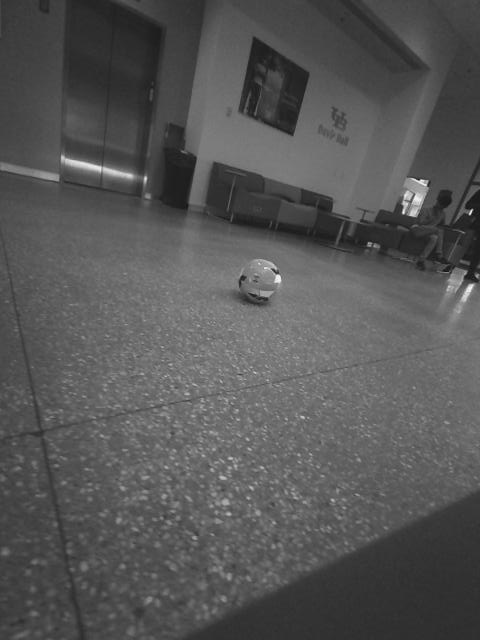ball: (342, 372, 408, 435)
